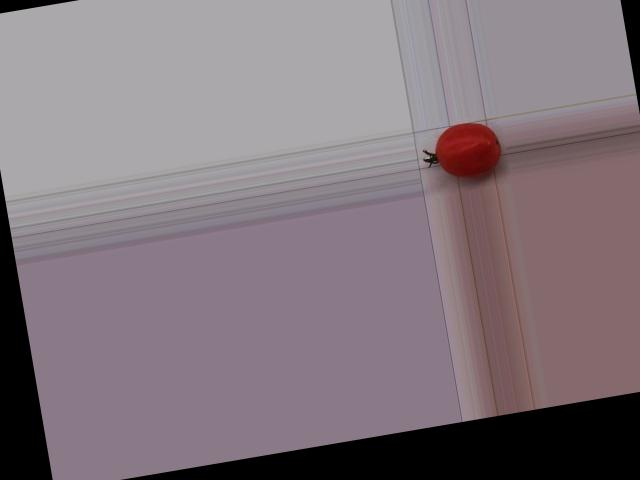tomato: (432, 117, 504, 182)
